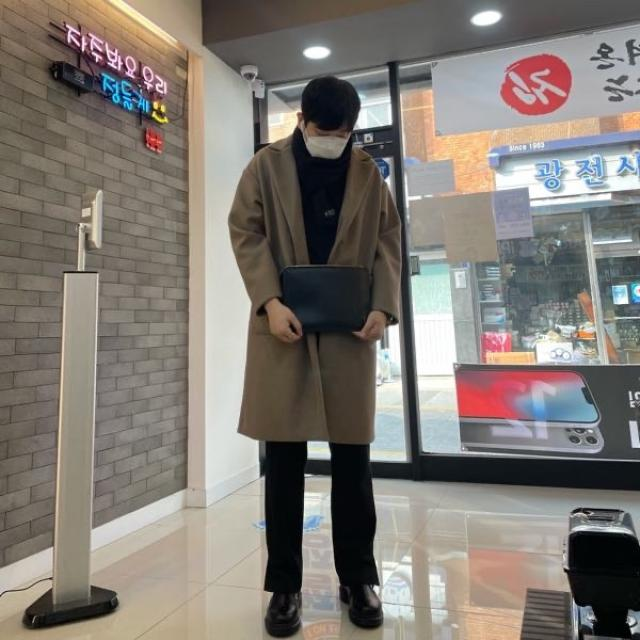coat: (227, 125, 400, 442)
slacks: (260, 440, 382, 591)
